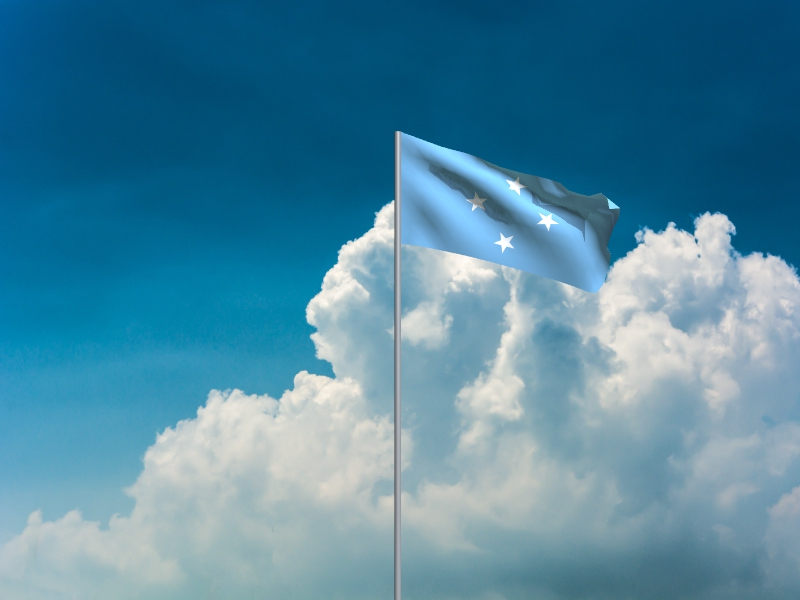fm: (402, 133, 622, 295)
